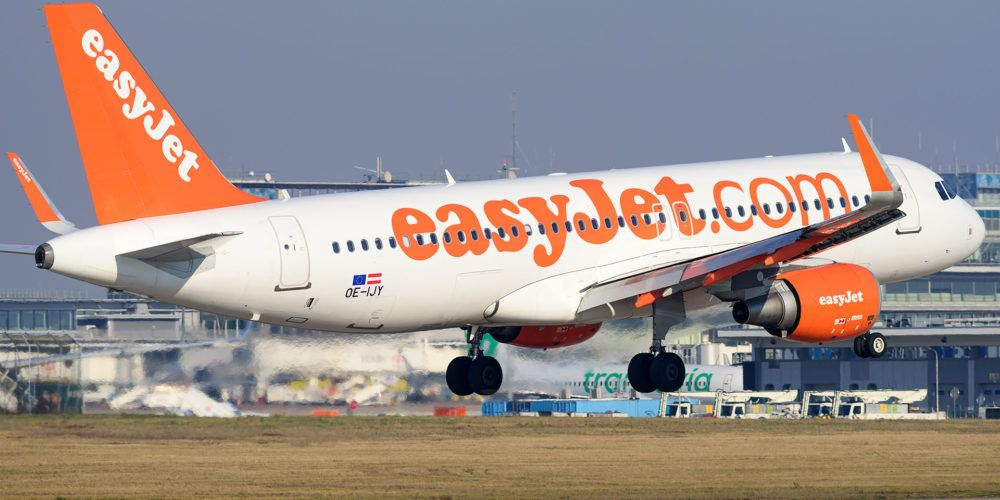Aeronef_commercial: (5, 1, 986, 402), (3, 143, 102, 267)
